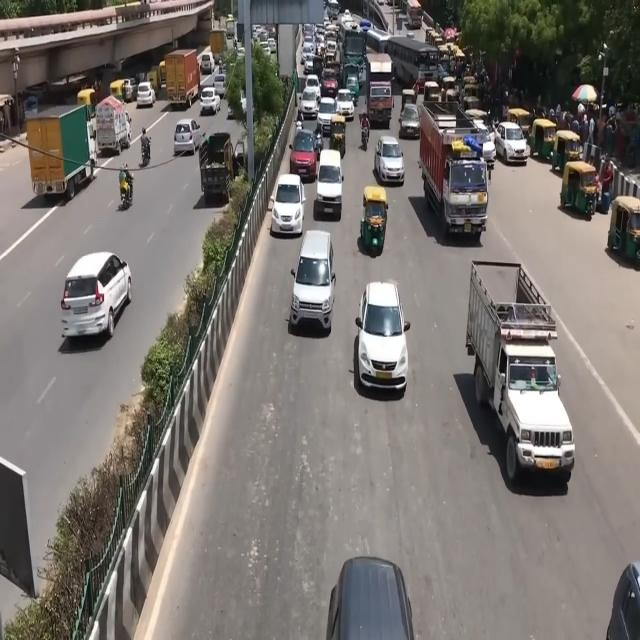auto: (559, 160, 599, 218), (607, 194, 640, 263), (358, 184, 389, 257), (550, 128, 583, 176), (530, 118, 558, 164), (506, 107, 534, 138), (328, 115, 347, 159), (462, 81, 483, 113), (464, 108, 488, 132), (440, 76, 458, 102), (422, 81, 441, 105), (401, 88, 417, 114)
bike-auto: (118, 160, 134, 223), (140, 126, 150, 165), (361, 118, 370, 150)
